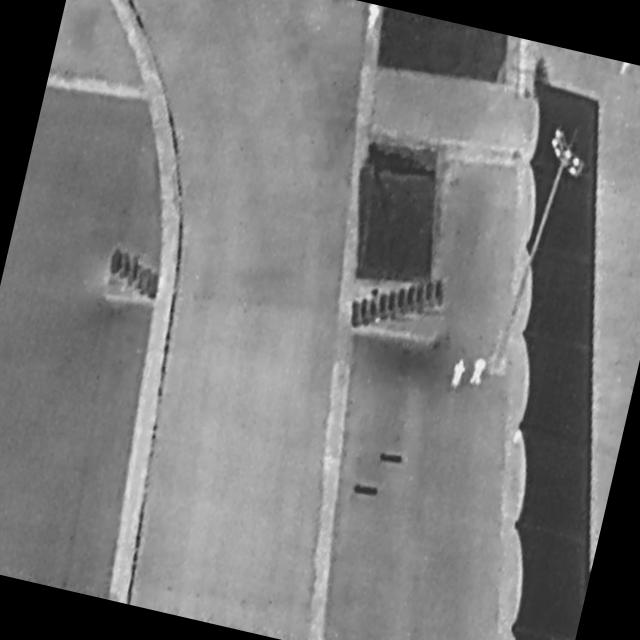person: (469, 353, 491, 390), (449, 355, 470, 392), (363, 3, 383, 30)
